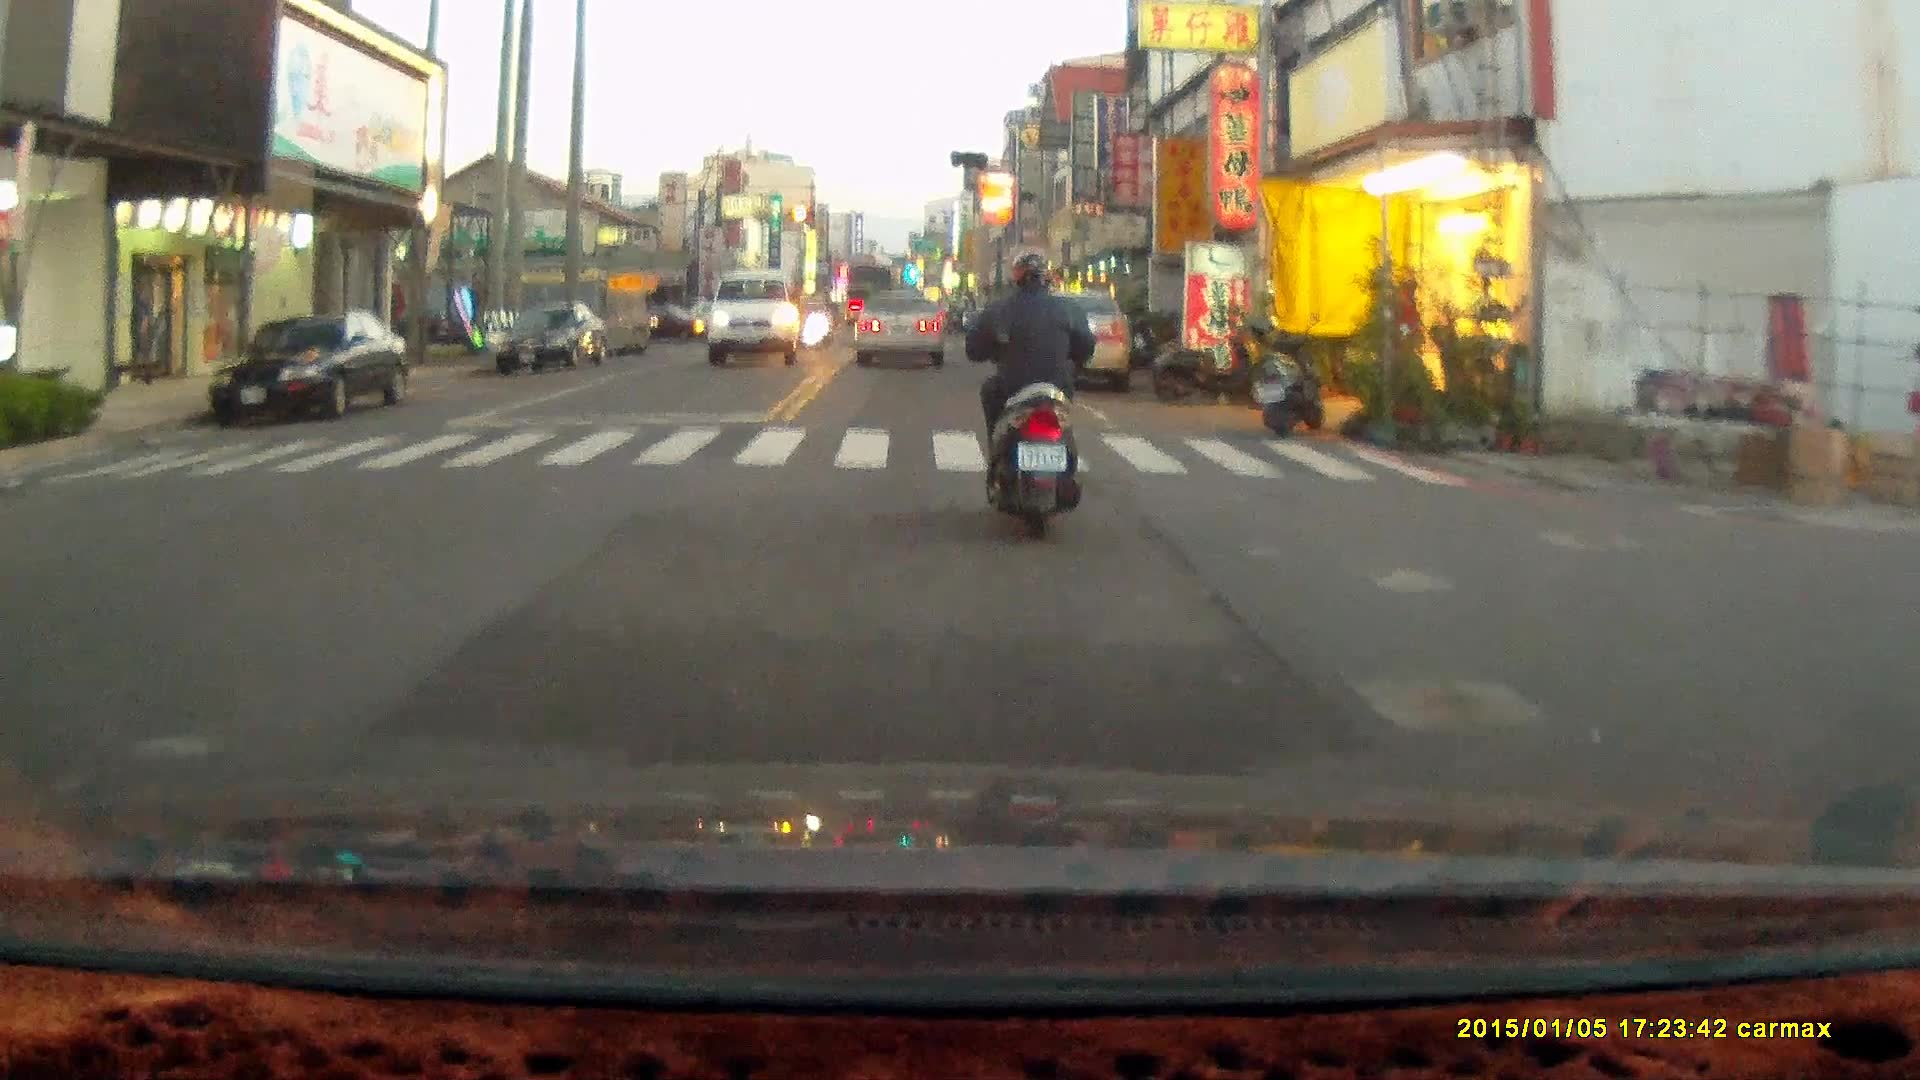rider: (958, 249, 1093, 545)
vehicle: (203, 315, 406, 423), (1011, 290, 1137, 394), (705, 272, 802, 371), (495, 300, 610, 376), (859, 295, 957, 366)
